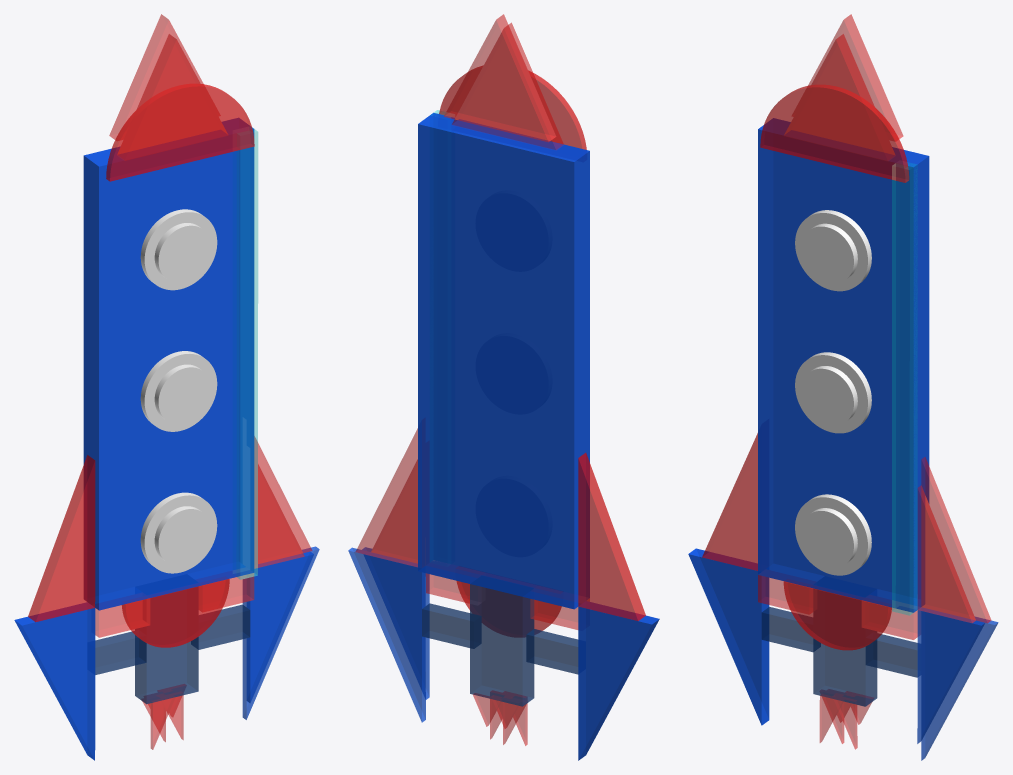
File: fusee-extrude.obj
3 renders of one model, left to right at view 1: azimuth 30°, elevation 25°; view 2: azimuth 150°, elevation 25°; view 3: azimuth 330°, elevation 25°, orthographic.
Parts seen in each view (by area): view 1: Couvercle_1_26, Couvercle_2_26, base.001, Couvercle_1_7, Couvercle_2_7, Couvercle_1_27, Couvercle_1_24, Couvercle_1_22, Couvercle_2_24, Couvercle_1_19, Couvercle_1, Couvercle_1_23 (+39 smaller); view 2: Couvercle_2_26, Couvercle_1_26, base.001, Couvercle_2_22, Couvercle_2_24, Couvercle_2_6, Couvercle_2_25, Couvercle_1_6, Couvercle_1_24, Couvercle_2_5, Couvercle_1_25, Couvercle_1_22 (+24 smaller); view 3: Couvercle_1_26, Couvercle_2_26, base.001, Couvercle_1_7, Couvercle_2_7, Couvercle_1_27, Couvercle_1_24, Couvercle_1_25, Couvercle_1_22, Couvercle_1, Couvercle_2_24, Couvercle_1_23 (+41 smaller).
Boxes of the visible parts, box(x1,y1,x2,y2) form: Couvercle_1_26: box(99, 129, 254, 610); Couvercle_2_26: box(84, 149, 232, 595); base.001: box(83, 118, 253, 610); Couvercle_1_7: box(110, 86, 254, 181); Couvercle_2_7: box(106, 84, 249, 178); Couvercle_1_27: box(241, 132, 257, 578); Couvercle_1_24: box(22, 608, 95, 759); Couvercle_1_22: box(146, 587, 198, 703); Couvercle_2_24: box(15, 610, 86, 752); Couvercle_1_19: box(36, 461, 95, 621); Couvercle_1: box(125, 579, 229, 647); Couvercle_1_23: box(250, 554, 313, 702); Couvercle_2_26: box(418, 124, 574, 609); Couvercle_1_26: box(434, 119, 589, 594); base.001: box(418, 112, 589, 609); Couvercle_2_22: box(470, 584, 522, 706); Couvercle_2_24: box(578, 606, 651, 760); Couvercle_2_6: box(444, 21, 547, 141); Couvercle_2_25: box(348, 551, 421, 721); Couvercle_1_6: box(452, 15, 555, 135); Couvercle_1_24: box(586, 609, 658, 753); Couvercle_2_5: box(452, 29, 555, 149); Couvercle_1_25: box(353, 548, 425, 718); Couvercle_1_22: box(482, 587, 533, 697); Couvercle_1_26: box(758, 129, 913, 612); Couvercle_2_26: box(774, 150, 928, 591); base.001: box(758, 118, 929, 612); Couvercle_1_7: box(760, 87, 905, 182); Couvercle_2_7: box(764, 85, 908, 179); Couvercle_1_27: box(892, 169, 909, 614); Couvercle_1_24: box(688, 554, 761, 724); Couvercle_1_25: box(921, 611, 994, 759); Couvercle_1_22: box(813, 589, 865, 706); Couvercle_1: box(783, 581, 888, 650); Couvercle_2_24: box(697, 549, 768, 716); Couvercle_1_23: box(917, 610, 980, 743).
Size of the model in its own units: 3.33 by 7.63 by 0.4578.
